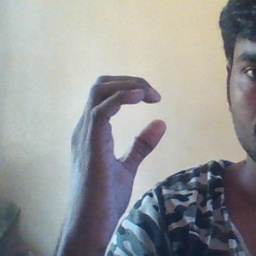C: (84, 63, 175, 184)
